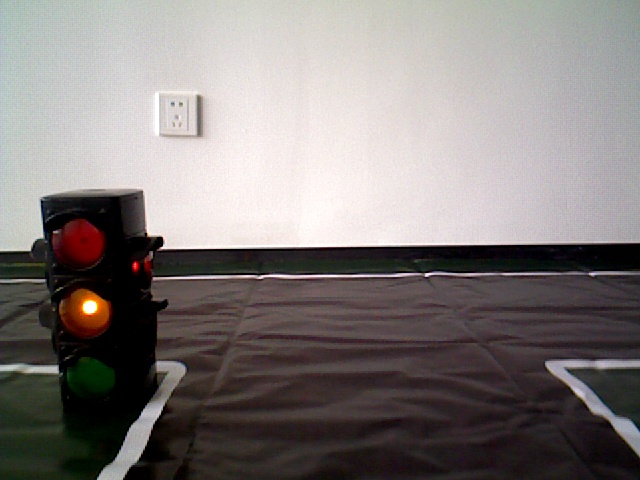yellow: (33, 190, 154, 412)
